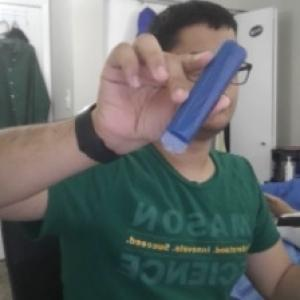Diamond-E-Ciggirate: (155, 38, 250, 158)
